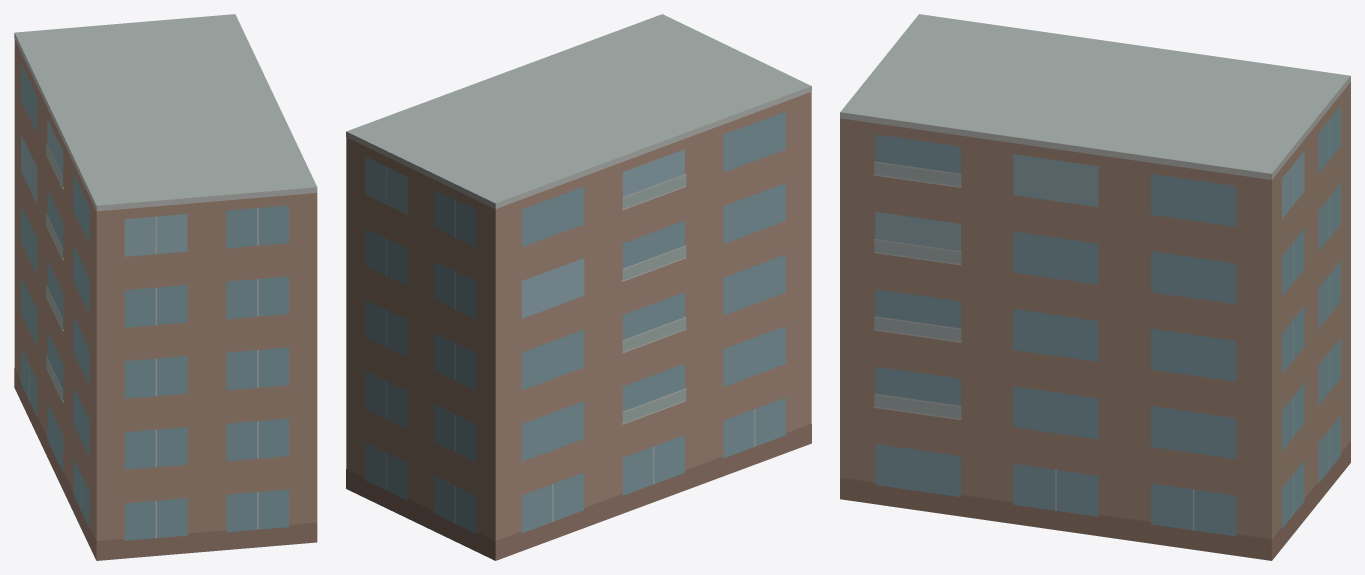
Rendered from survey-upis-32999112.glb.
3 renders of one model, left to right at view 1: azimuth 30°, elevation 25°; view 2: azimuth 150°, elevation 25°; view 3: azimuth 270°, elevation 25°, orthographic. The views are drawn at different scales.
Parts seen in each view (by area): view 1: survey-upis-32999112.tmp; view 2: survey-upis-32999112.tmp; view 3: survey-upis-32999112.tmp.
Boxes of the visible parts, left/top/right/bottom form: survey-upis-32999112.tmp: left=14, top=14, right=317, bottom=560; survey-upis-32999112.tmp: left=346, top=14, right=811, bottom=560; survey-upis-32999112.tmp: left=840, top=14, right=1350, bottom=560.
Bounding box in the file's own units: 13.66 × 15.4 × 18.43.
